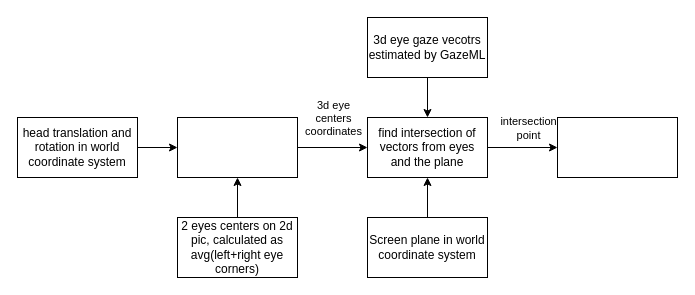
The diagram is 695 pixels wide and 295 high, and some of its shapes have lost their labels. The shapes that lost their labels are listed below. From the top down, each one's centre as x and y in pixels, then its label:
pixel 237 147: Get 3d eye centers coordinates in world coordinate system
pixel 617 147: find targeted pixel
